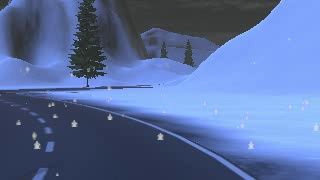Lane: (0, 86, 252, 179)
